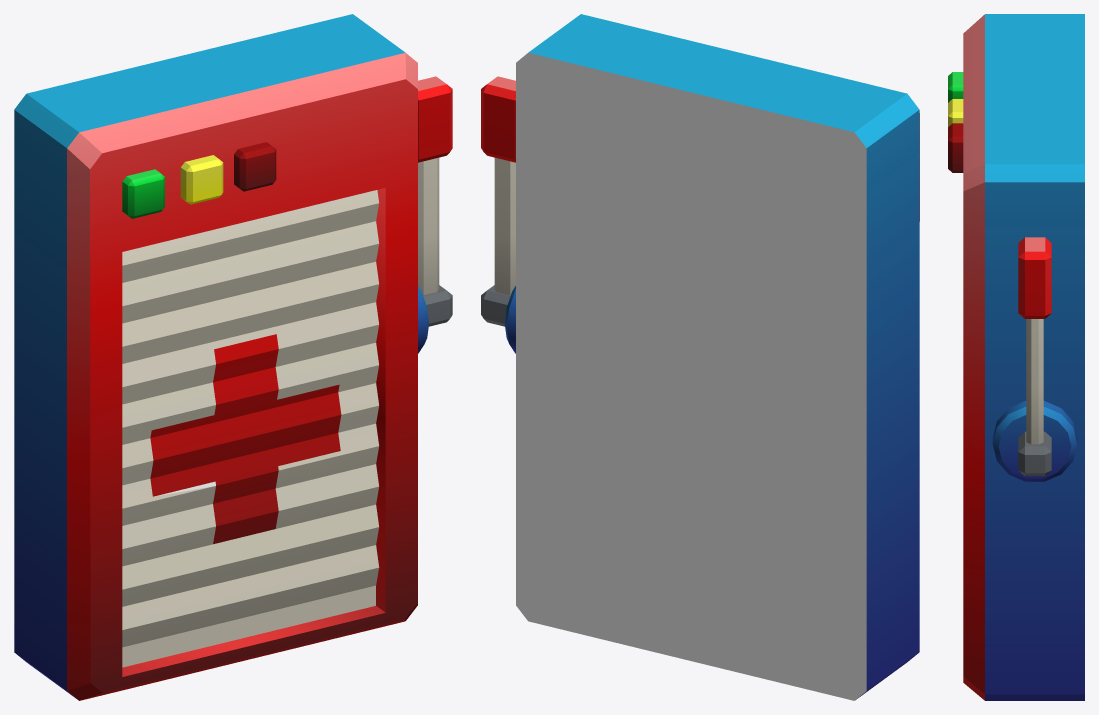
Rendered from First_Aid_Kit_Wall_1.fbx.
3 views of the same model, side by side, from view 1: azimuth 30°, elevation 25°; view 2: azimuth 150°, elevation 25°; view 3: azimuth 270°, elevation 25° (orthographic). The views are drawn at different scales.
Parts seen in each view (by area): view 1: Cube; view 2: Cube; view 3: Cube.
Boxes of the visible parts, left/top/right/bottom form: Cube: left=14, top=14, right=452, bottom=700; Cube: left=481, top=14, right=919, bottom=700; Cube: left=948, top=14, right=1084, bottom=700.
Bounding box in the file's own units: 43.5 × 58.12 × 13.43.
